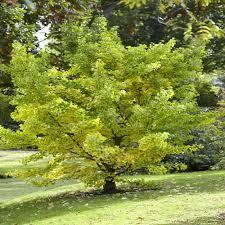tree: (10, 23, 212, 192)
